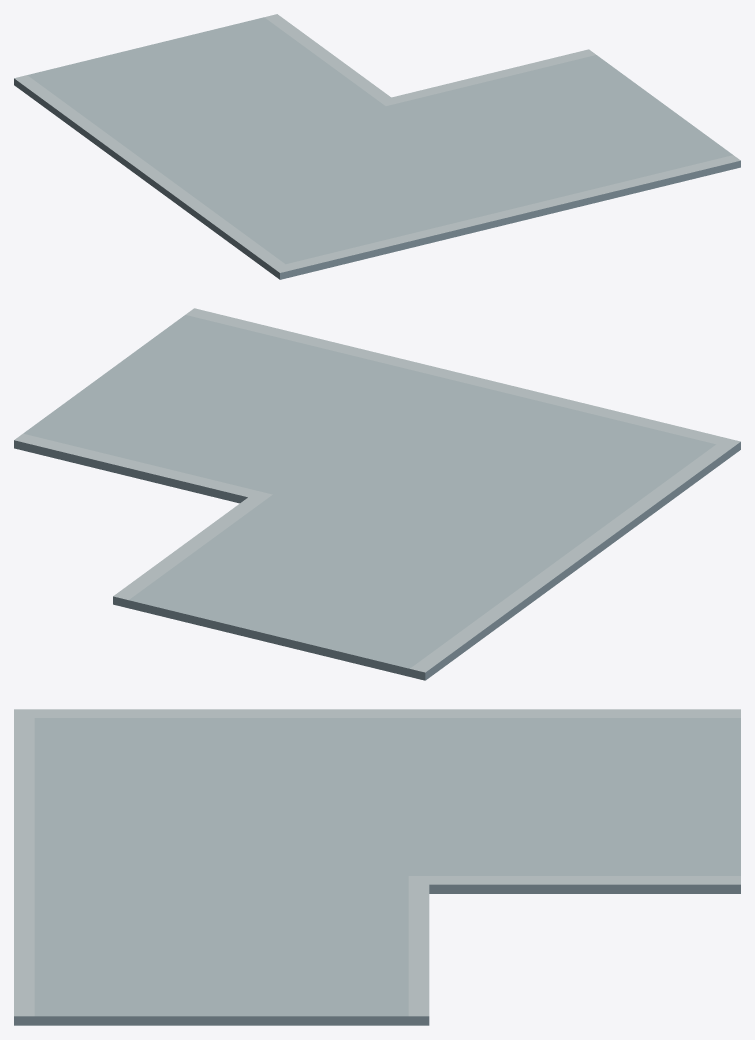
Rendered from campus_walk_corner_v01.glb.
3 views of the same model, one above another, from view 1: azimuth 30°, elevation 25°; view 2: azimuth 150°, elevation 25°; view 3: azimuth 270°, elevation 25° (orthographic). The views are drawn at different scales.
Visible parts, largest first — view 1: campus_walk_corner; view 2: campus_walk_corner; view 3: campus_walk_corner.
Boxes of the visible parts, x1=… form: campus_walk_corner: x1=14, y1=14, x2=740, y2=279; campus_walk_corner: x1=14, y1=308, x2=740, y2=680; campus_walk_corner: x1=14, y1=709, x2=740, y2=1025.
Bounding box in the file's own units: 5.6 × 0.08 × 5.6.
